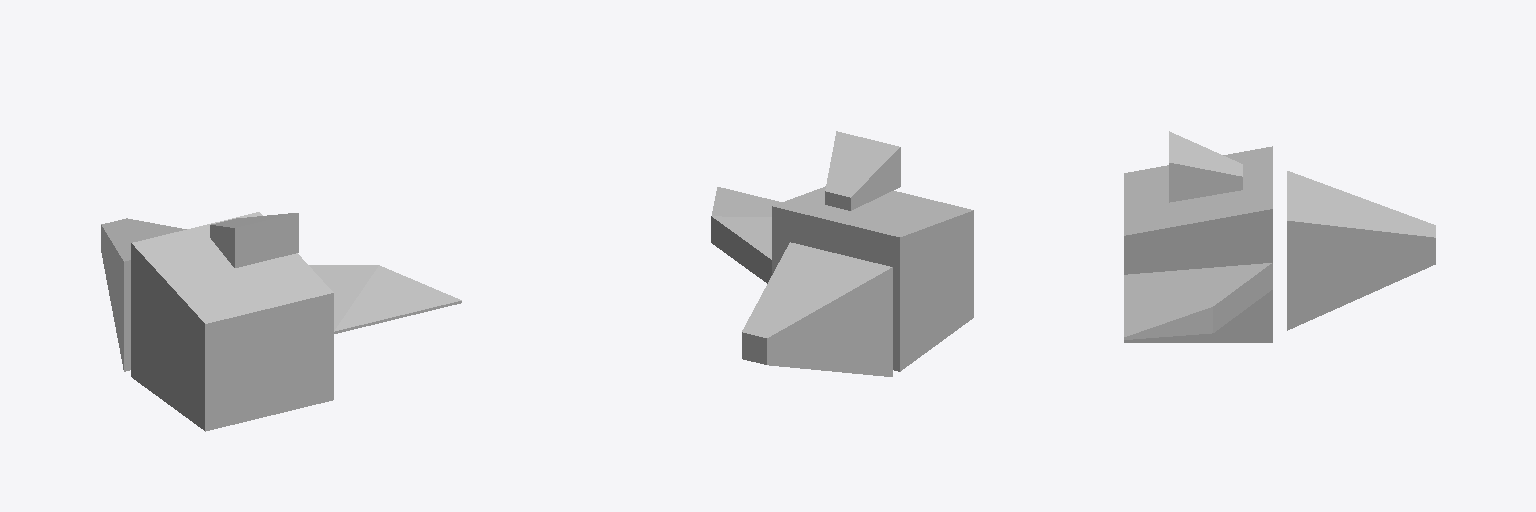
Rendered from thing1-z+y.obj.
3 renders of one model, left to right at view 1: azimuth 30°, elevation 25°; view 2: azimuth 150°, elevation 25°; view 3: azimuth 270°, elevation 25°, orthographic.
Parts seen in each view (by area): view 1: Cube; view 2: Cube; view 3: Cube.
Boxes of the visible parts, box(x1,y1,x2,y2) form: Cube: box(101, 212, 461, 431); Cube: box(711, 131, 973, 376); Cube: box(1124, 131, 1435, 342).
Size of the model in its own units: 1 by 0.65 by 1.05.